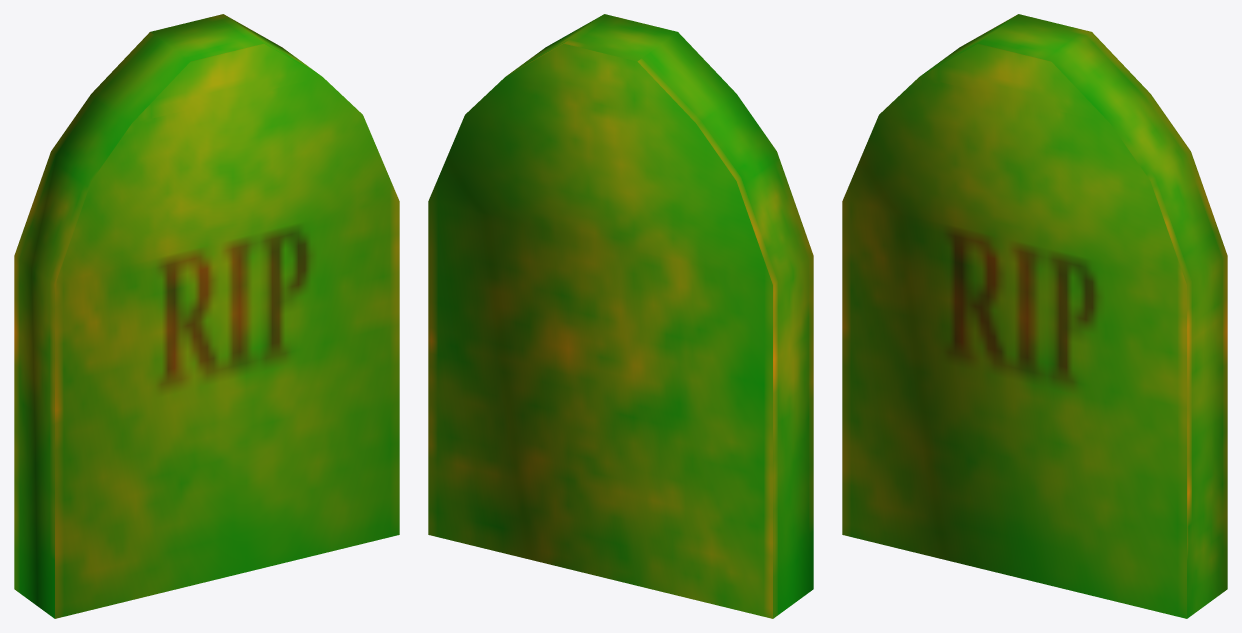
File: gravestone_new_001_doakey3.fbx
The picture shows the model from 3 angles, left to right: view 1: azimuth 30°, elevation 25°; view 2: azimuth 150°, elevation 25°; view 3: azimuth 330°, elevation 25°; orthographic projection.
Visible parts, largest first — view 1: simpleGravestoneA; view 2: simpleGravestoneA; view 3: simpleGravestoneA.
Boxes of the visible parts, box(x1,y1,x2,y2) form: simpleGravestoneA: box(14, 14, 399, 618); simpleGravestoneA: box(428, 14, 813, 618); simpleGravestoneA: box(842, 14, 1227, 618).
Bounding box in the file's own units: 1.31 × 1.9 × 0.2664.
